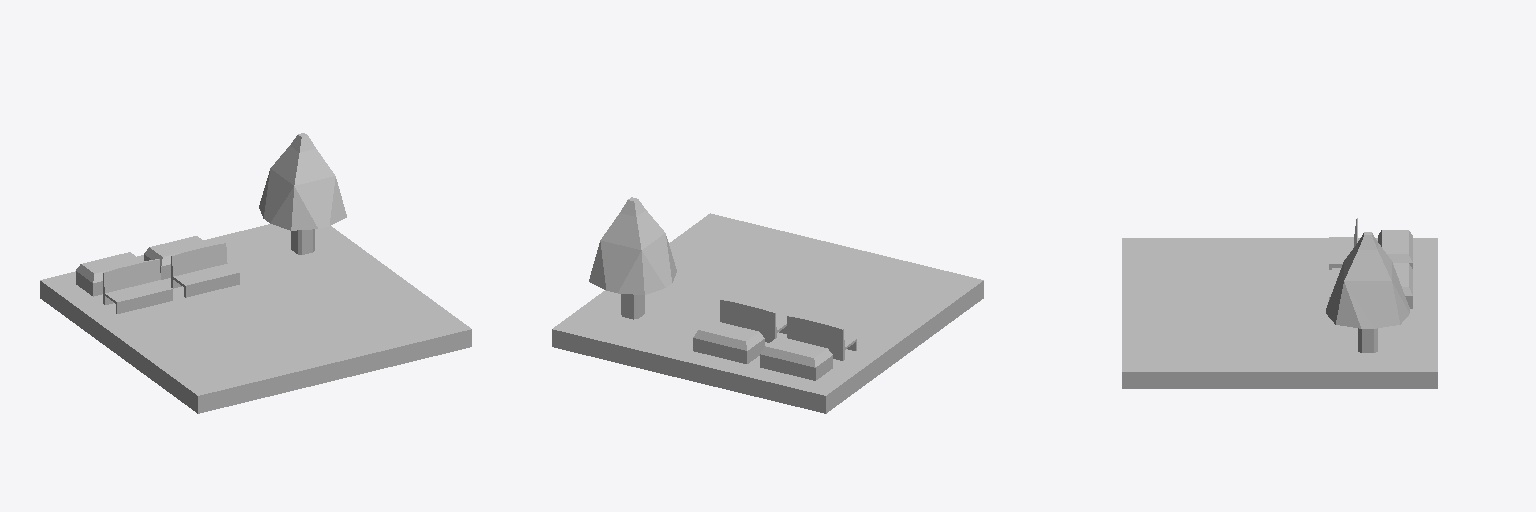
The model's file is tree 8x8x0.5.obj.
3 renders of one model, left to right at view 1: azimuth 30°, elevation 25°; view 2: azimuth 150°, elevation 25°; view 3: azimuth 270°, elevation 25°, orthographic.
Visible parts, largest first — view 1: Cube; view 2: Cube; view 3: Cube.
Boxes of the visible parts, box(x1,y1,x2,y2) form: Cube: box(40, 133, 471, 413); Cube: box(552, 197, 983, 413); Cube: box(1122, 218, 1437, 388).
Size of the model in its own units: 16 by 7.43 by 16.